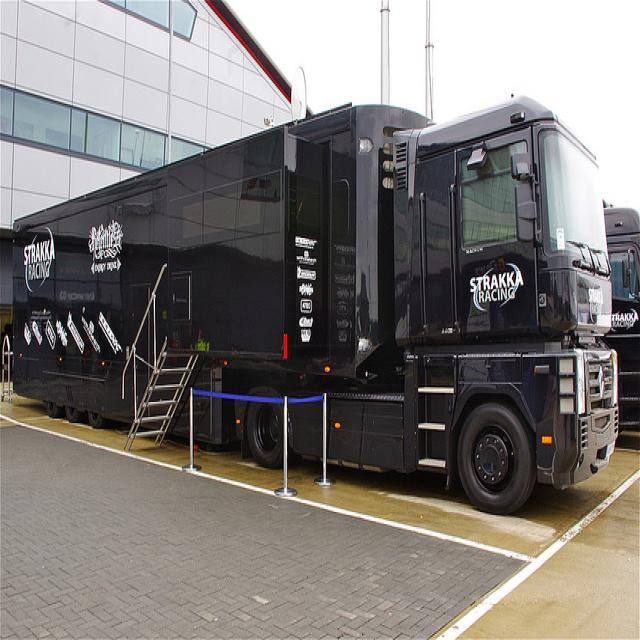Vehicle: (12, 91, 618, 516)
